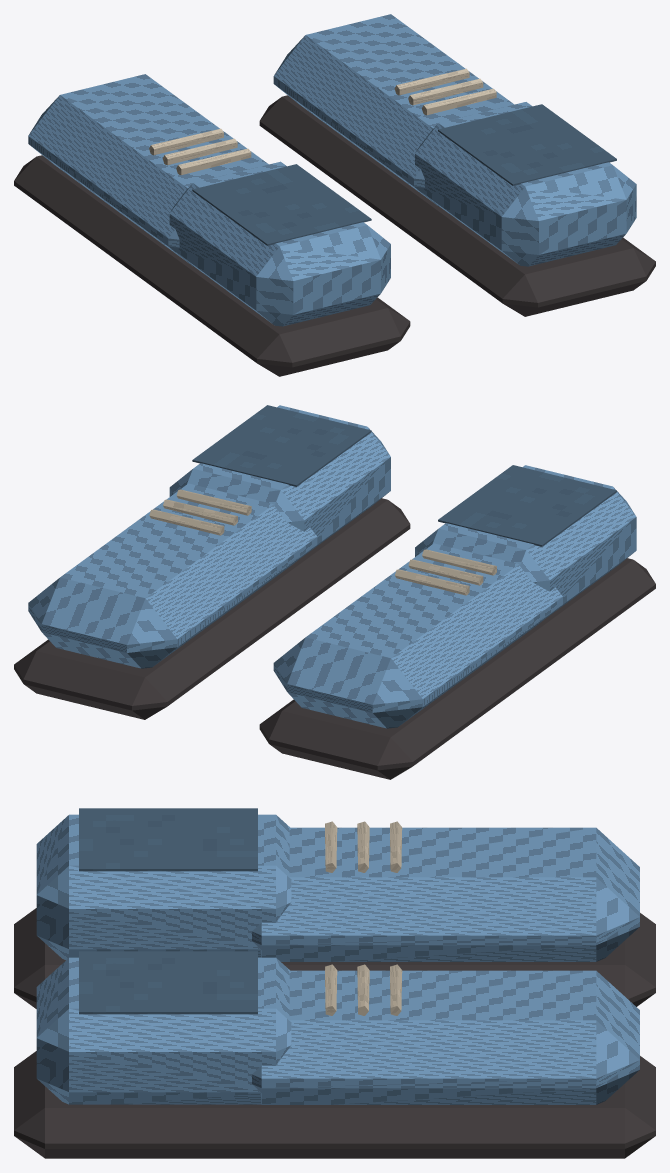
Rendered from shoes_denim.glb.
3 views of the same model, one above another, from view 1: azimuth 30°, elevation 25°; view 2: azimuth 150°, elevation 25°; view 3: azimuth 270°, elevation 25° (orthographic). The views are drawn at different scales.
Visible parts, largest first — view 1: block_shaped sole (×2), block_vamp and toe (×2), block_shaft (×2), block_opening (×2), block_lace (×6); view 2: block_vamp and toe (×2), block_shaped sole (×2), block_shaft (×2), block_opening (×2), block_lace (×6); view 3: block_vamp and toe (×2), block_shaft (×2), block_shaped sole (×2), block_opening (×2), block_lace (×6).
Part boxes in pixels (box(x1,y1,x2,y2)): block_shaped sole (×2): box(14, 95, 655, 376); block_vamp and toe (×2): box(28, 14, 514, 266); block_shaft (×2): box(169, 102, 636, 326); block_opening (×2): box(192, 104, 616, 245); block_lace (×6): box(149, 68, 496, 175); block_vamp and toe (×2): box(28, 483, 562, 728); block_shaped sole (×2): box(14, 498, 655, 779); block_shaft (×2): box(169, 405, 636, 616); block_opening (×2): box(192, 405, 616, 546); block_lace (×6): box(149, 489, 496, 595); block_vamp and toe (×2): box(252, 827, 639, 1104); block_shaft (×2): box(36, 814, 291, 1104); block_shaped sole (×2): box(14, 908, 655, 1158); block_opening (×2): box(79, 808, 257, 1014); block_lace (×6): box(325, 821, 402, 1015).
Size of the model in its own units: 0.1941 by 0.0565 by 0.2267.
Materials: 1 (1 with a texture image).
